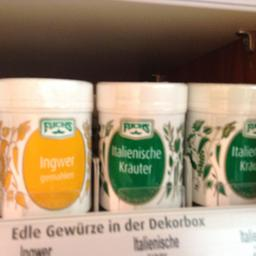spices: (0, 76, 95, 214), (94, 78, 188, 212), (185, 78, 255, 204)
